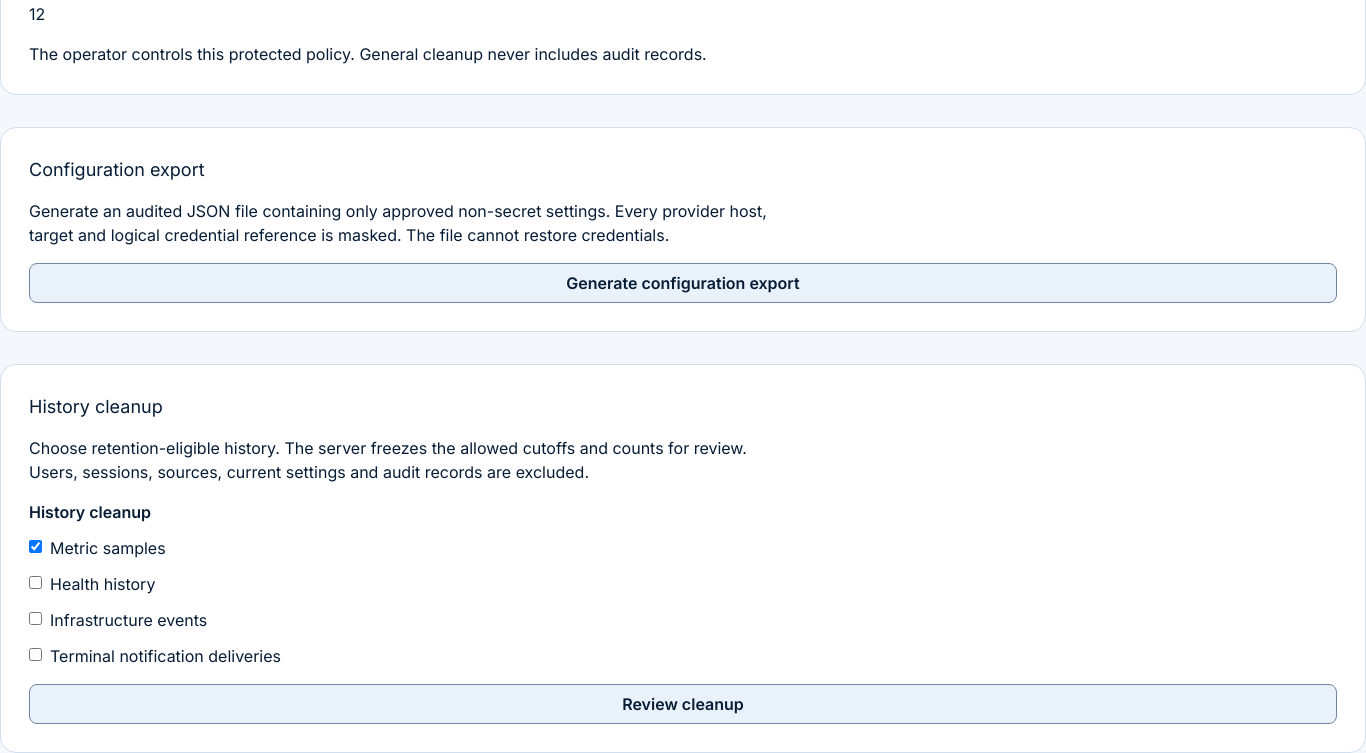
Test: application settings and destructive reviews › reports a bounded cleanup batch with remaining work and does not run a second batch
(page scrolled)
Click the button "Review cleanup" at (683, 704), box [29,684,1337,724]
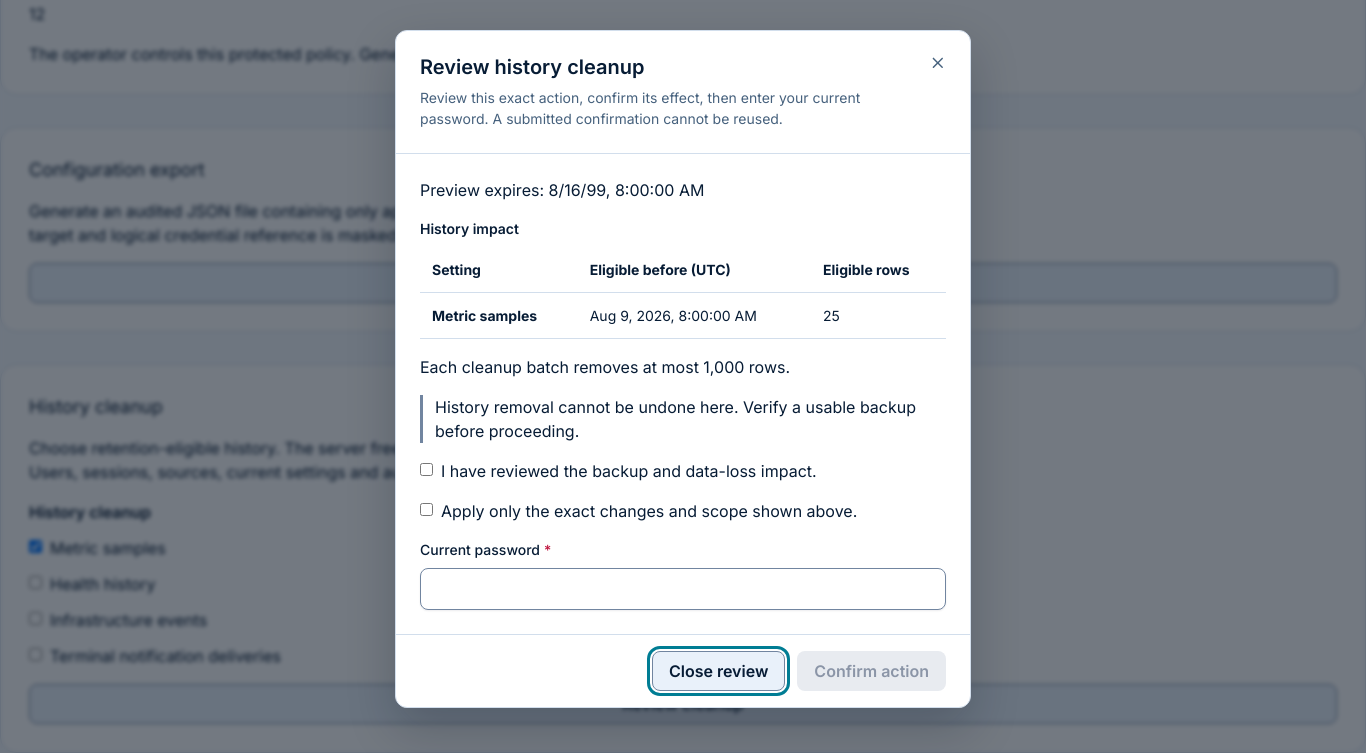
Check: the text "25" is shown, box [811,292,946,338]
Check: the text "Verify a usable backup" is shown, box [435,397,916,441]
Click the checkbox labelled "I have reviewed the backup and data-loss impact." at (426, 470), box [420,463,433,476]
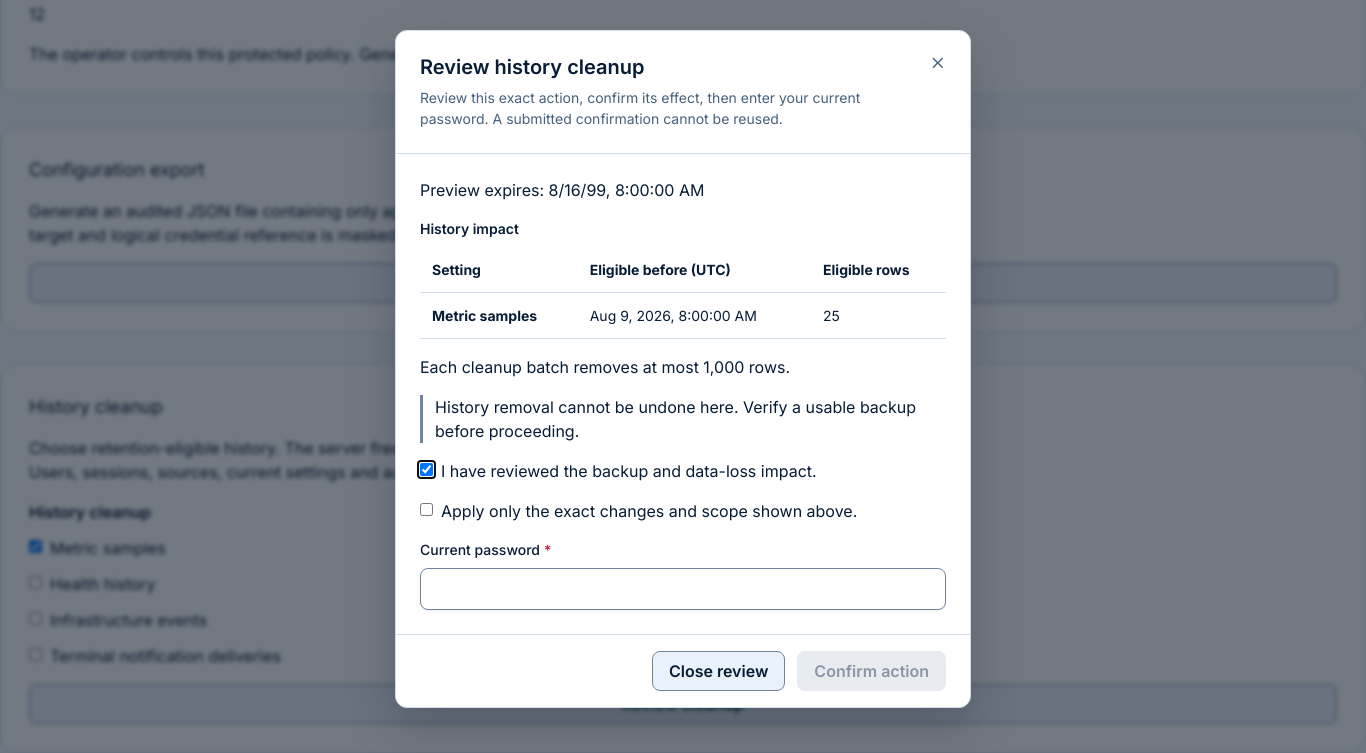
Click the checkbox labelled "Apply only the exact changes and scope shown above." at (426, 510), box [420,503,433,516]
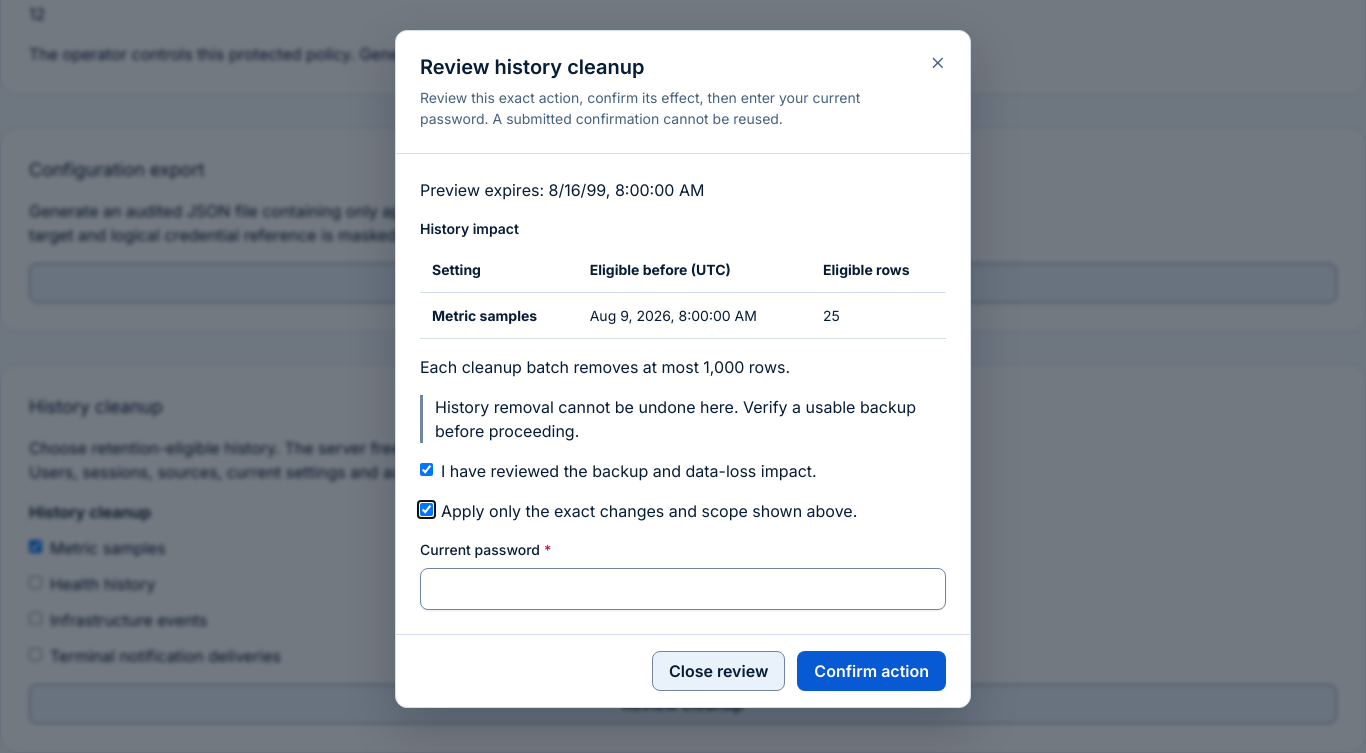
Type "fixture-password-123" into the password field labelled "Current password*" at (683, 589), box [420,568,946,610]
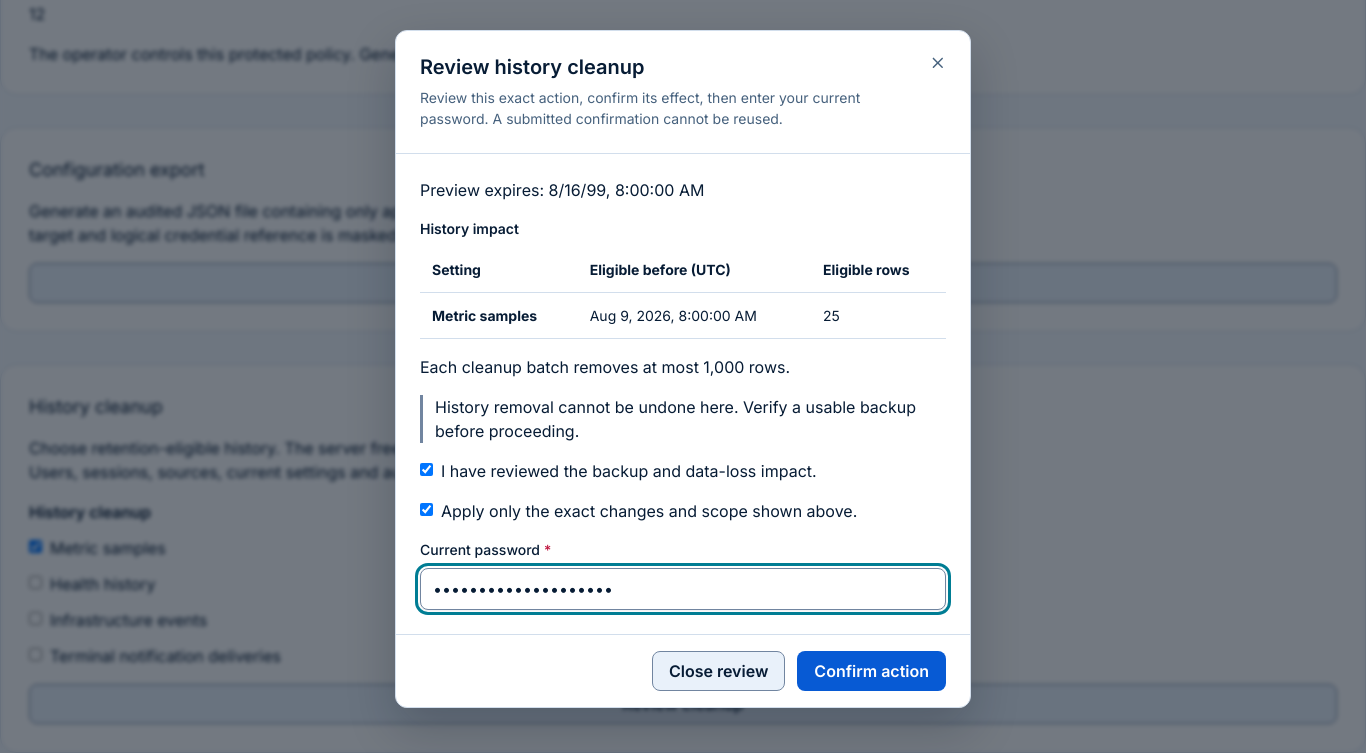
Click the button "Confirm action" at (872, 671), box [797,651,946,691]
(page scrolled)
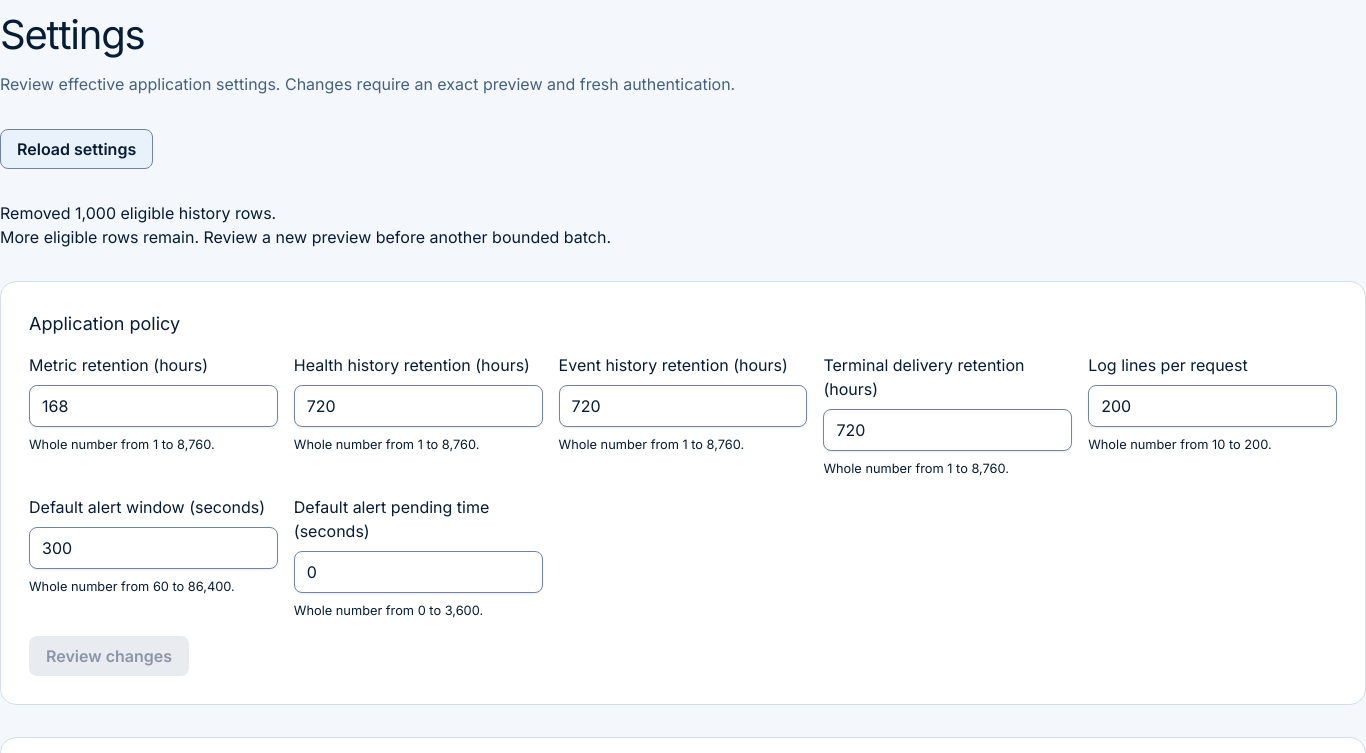
Check: the text "Removed 1,000 eligible history rows." is shown, box [0,203,276,223]
Check: the text "More eligible rows remain" is shown, box [0,227,611,247]
